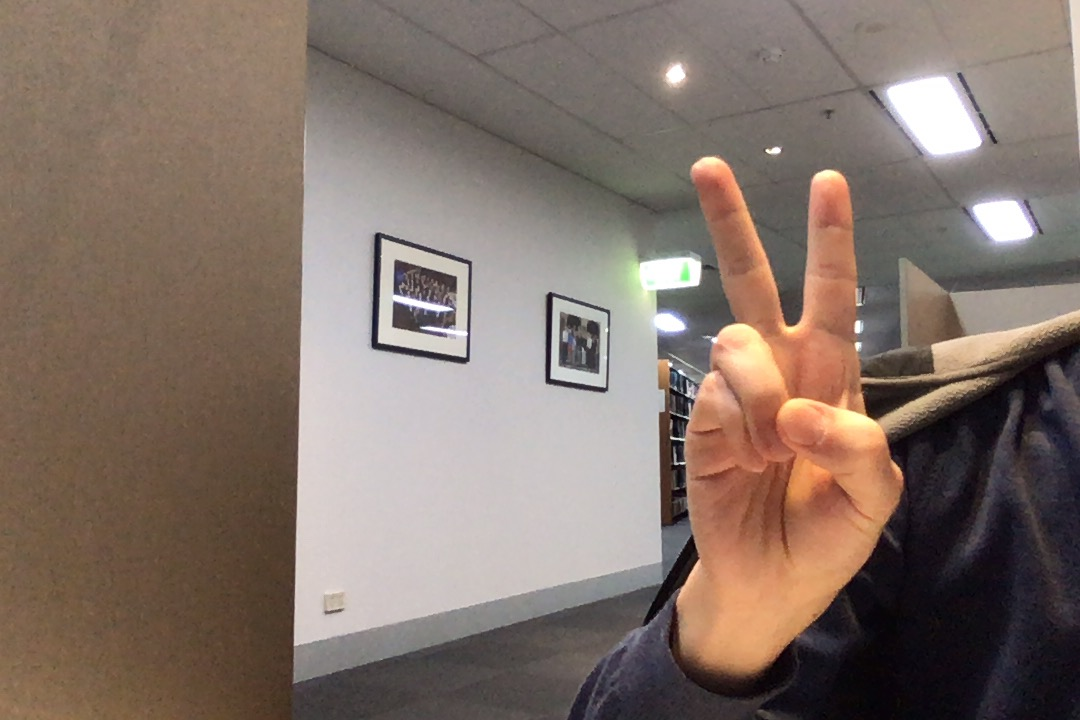peacesign: (650, 145, 925, 614)
